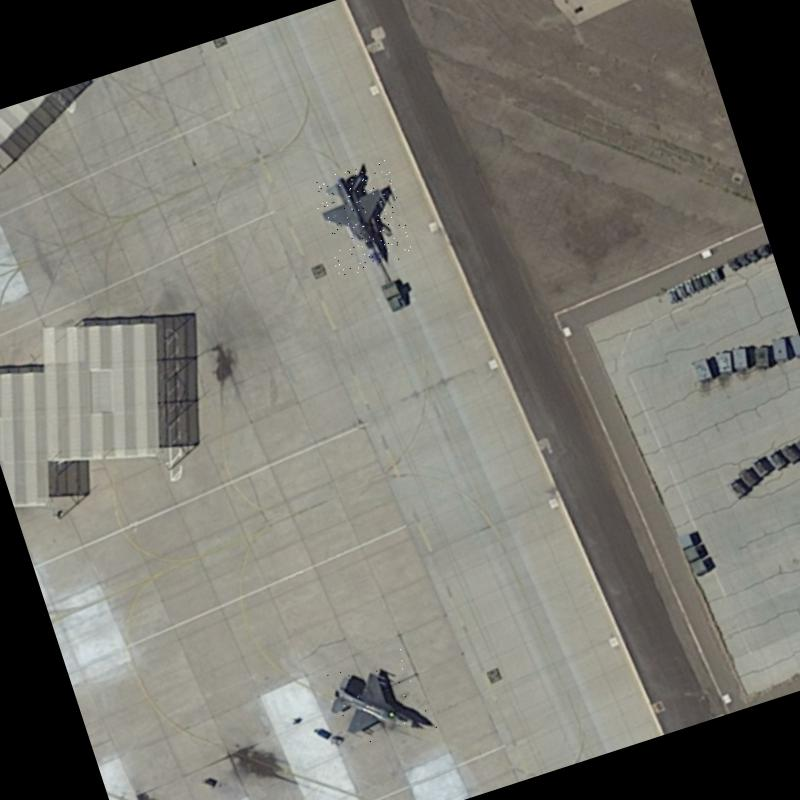A5: (315, 642, 438, 760), (308, 158, 416, 278)
